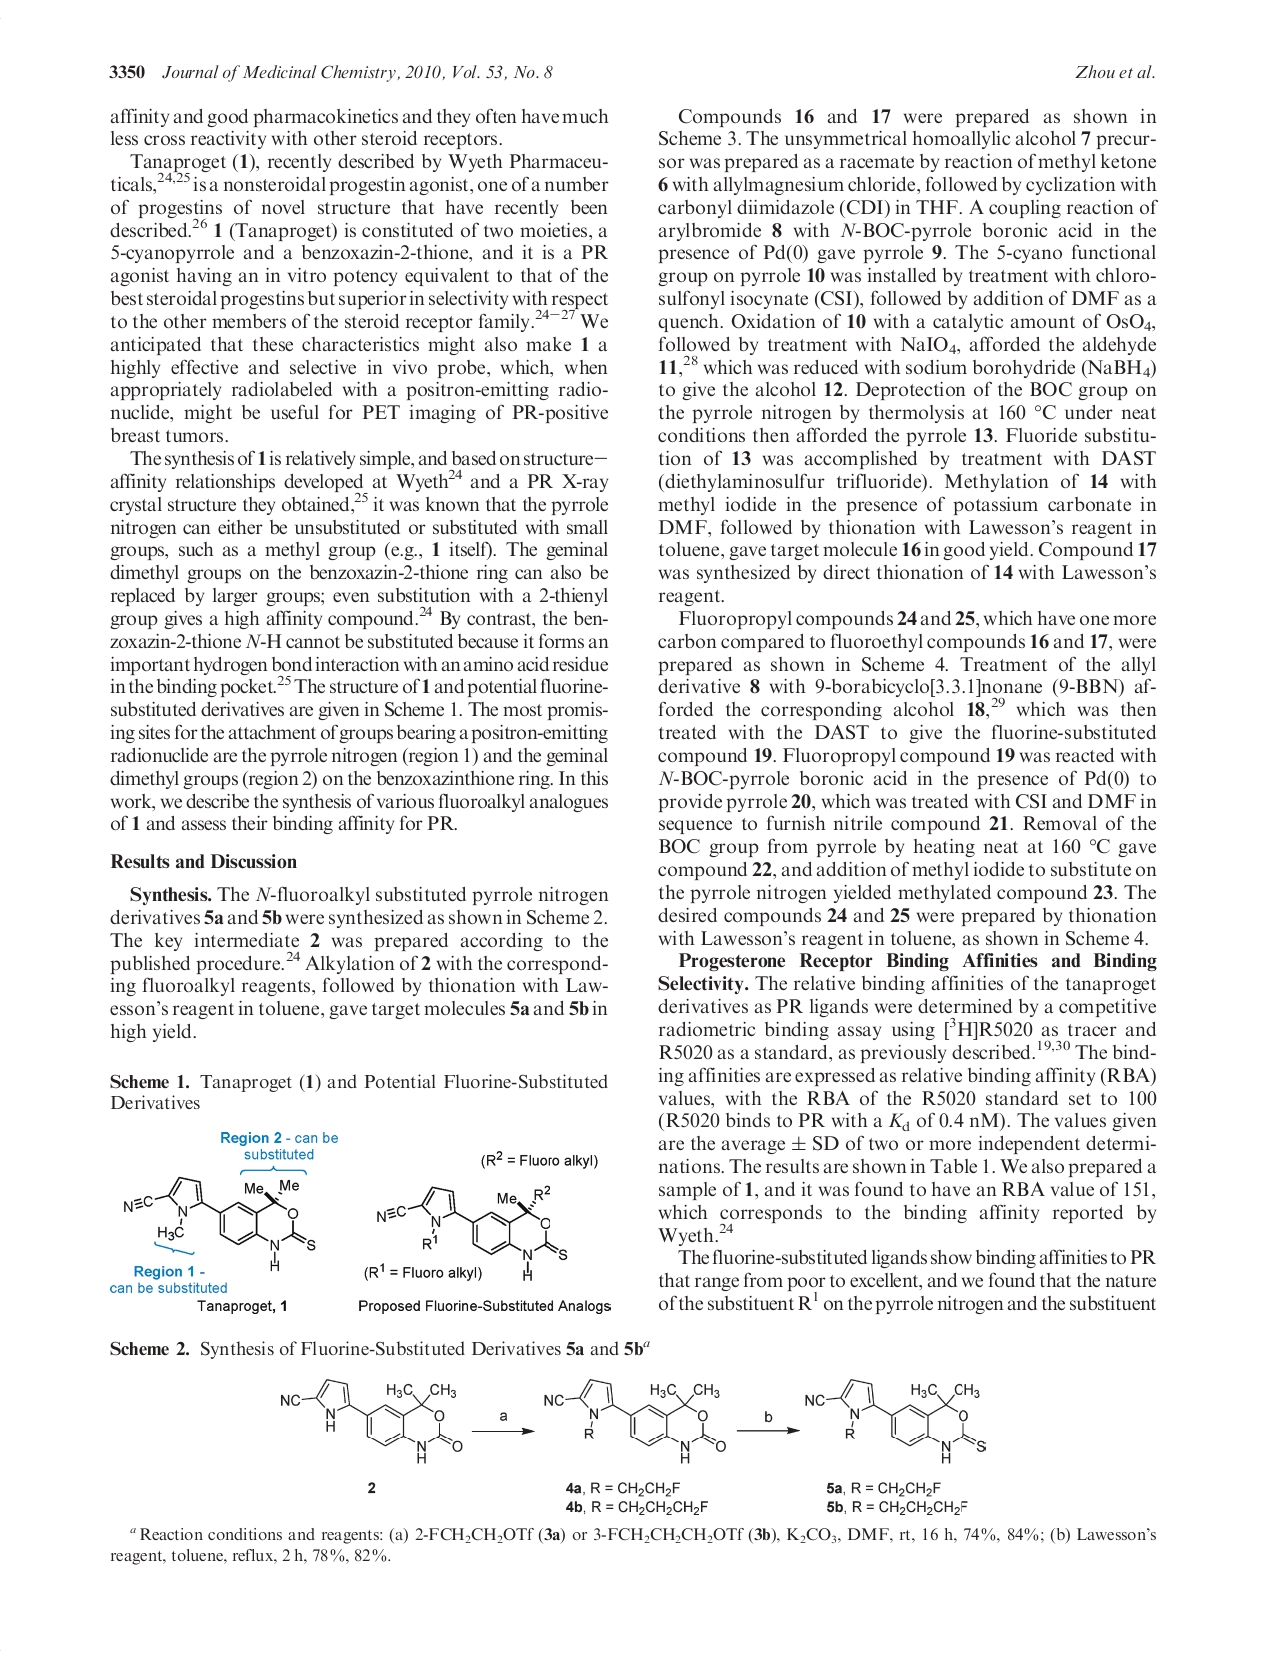exist_molecular: (371, 1176, 578, 1286), (120, 1172, 315, 1271), (805, 1374, 1001, 1466), (279, 1379, 472, 1467), (547, 1375, 731, 1462)
